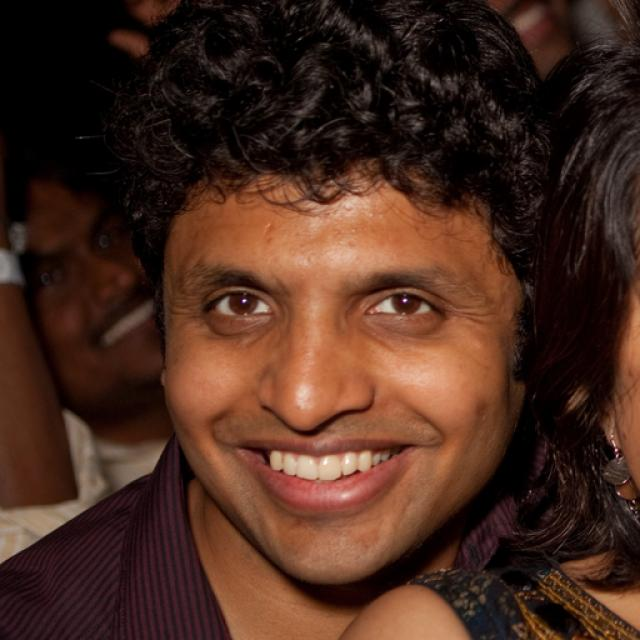Dark Circle: (206, 314, 275, 345), (360, 316, 442, 340)
